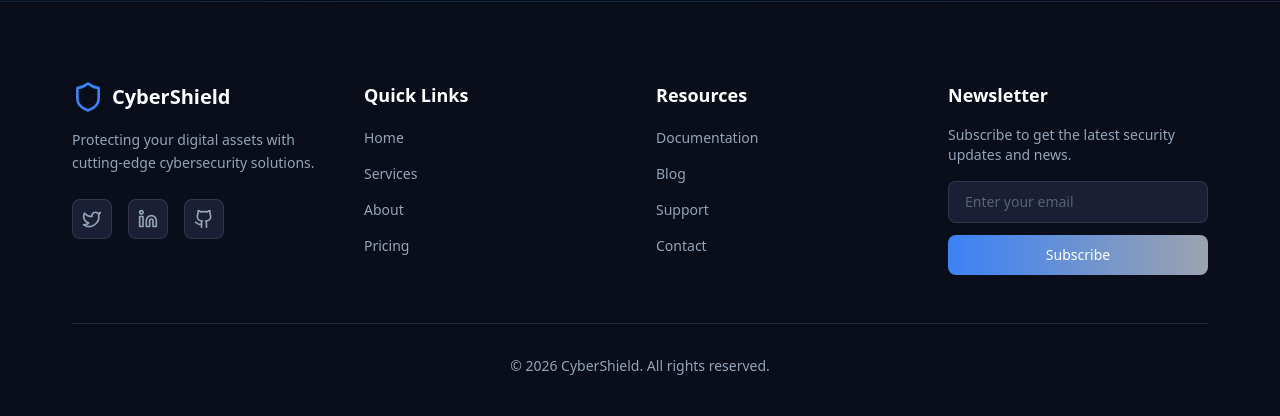
Test: Footer › Newsletter Form Validation › should clear error message when user starts typing
// Trigger error
Click the button "Subscribe": x=1078, y=255 [948,235,1208,275]
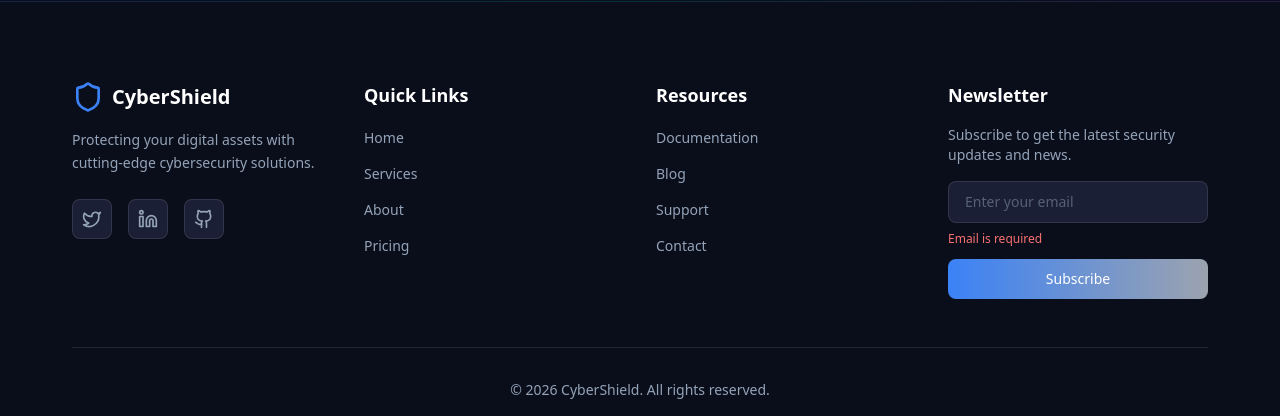
Result: the text "Email is required" is shown at [948,230,1042,247]
// Start typing
In the field with placeholder "Enter your email": x=1078, y=202 [948,181,1208,223], type "t"
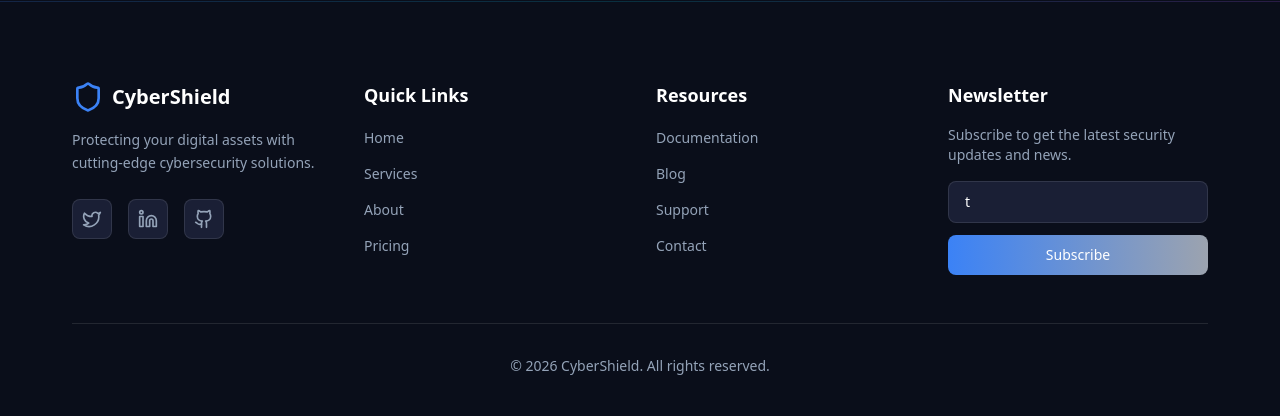
Result: the text "Email is required" is gone
